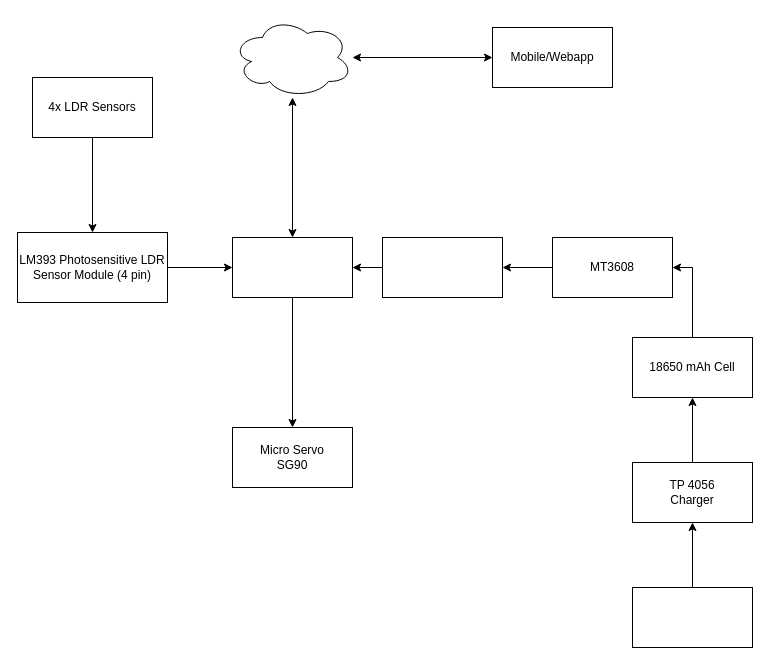
This 770x665 diagram has some shape labels left out. Each missing label, with the box of its shape:
ESP32 S3 N16R8: (232, 236, 352, 298)
Intenet: (232, 16, 352, 98)
Solar Panel AK140x45: (632, 586, 752, 648)
Tụ áp: (382, 236, 502, 298)
